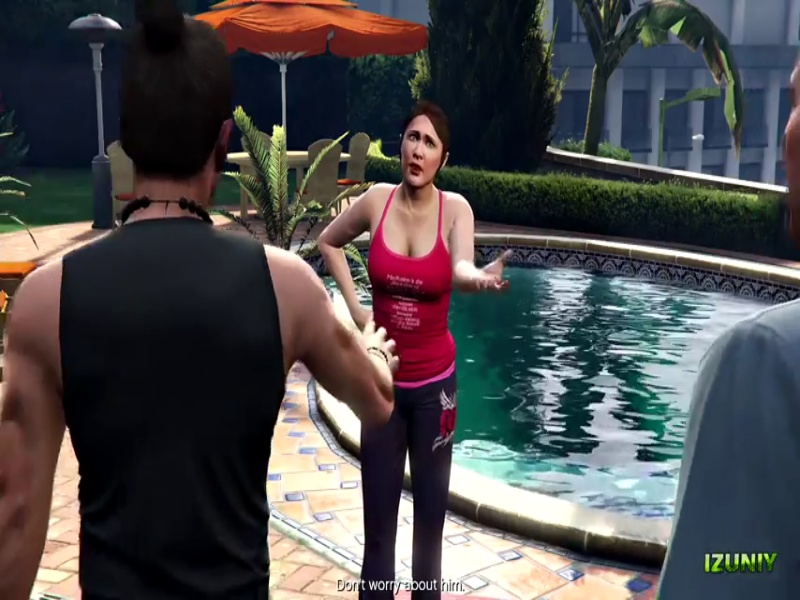human: (316, 104, 509, 587)
